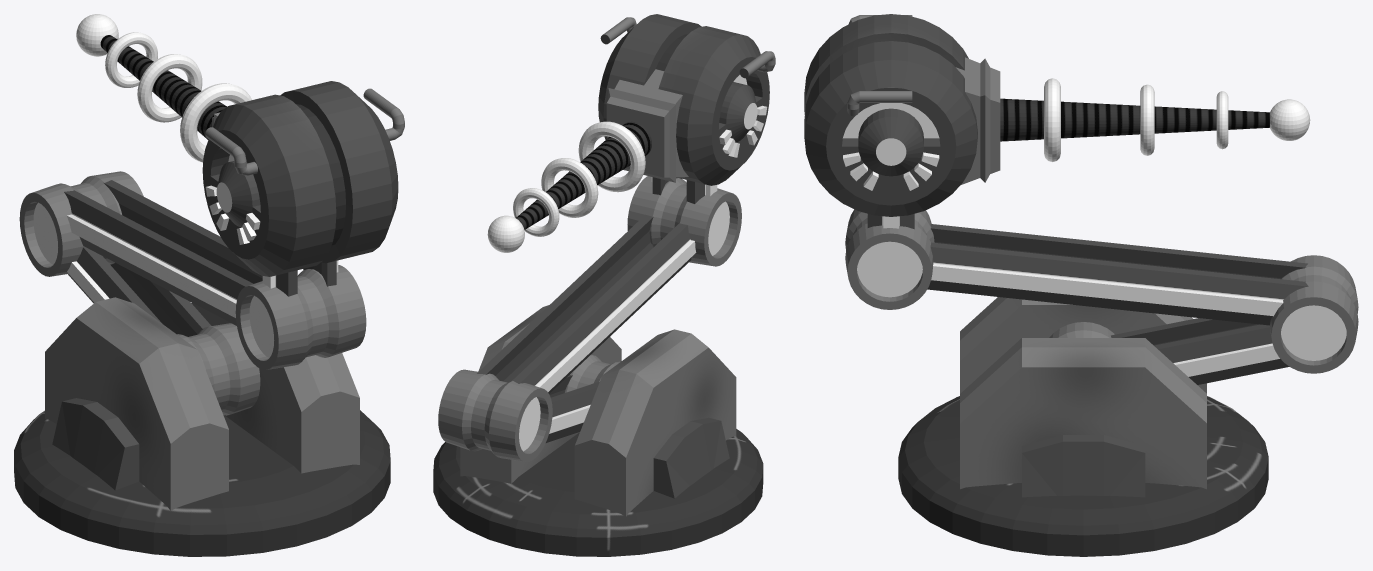
File: tower_railgun.obj
3 renders of one model, left to right at view 1: azimuth 30°, elevation 25°; view 2: azimuth 150°, elevation 25°; view 3: azimuth 270°, elevation 25°, orthographic. The views are drawn at different scales.
Visible parts, largest first — view 1: Cylinder.005_Cylinder.008; view 2: Cylinder.005_Cylinder.008; view 3: Cylinder.005_Cylinder.008.
Part boxes in pixels (left/top/right/bottom): Cylinder.005_Cylinder.008: left=14, top=14, right=404, bottom=556; Cylinder.005_Cylinder.008: left=433, top=14, right=775, bottom=556; Cylinder.005_Cylinder.008: left=804, top=14, right=1358, bottom=556.
Bounding box in the file's own units: 3 × 3.95 × 4.49.
1 material, 1 textured.
